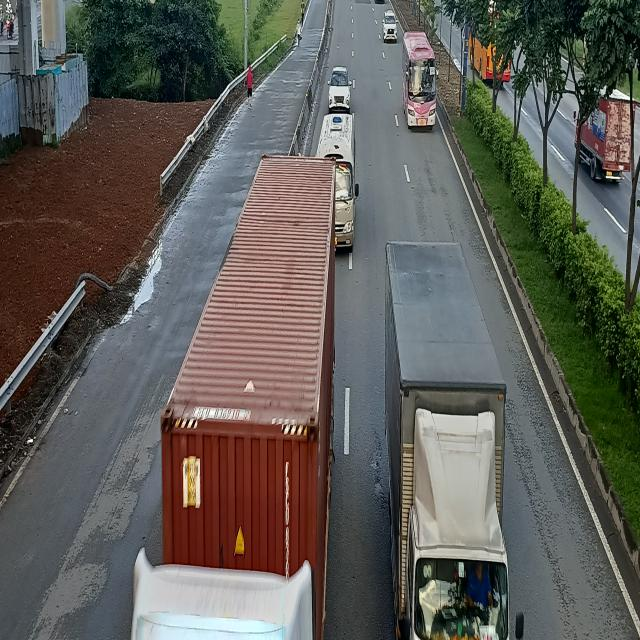car: (382, 13, 398, 45)
coach: (321, 111, 360, 254), (403, 31, 439, 130)
container: (132, 151, 349, 636)
truck: (384, 243, 509, 640)
